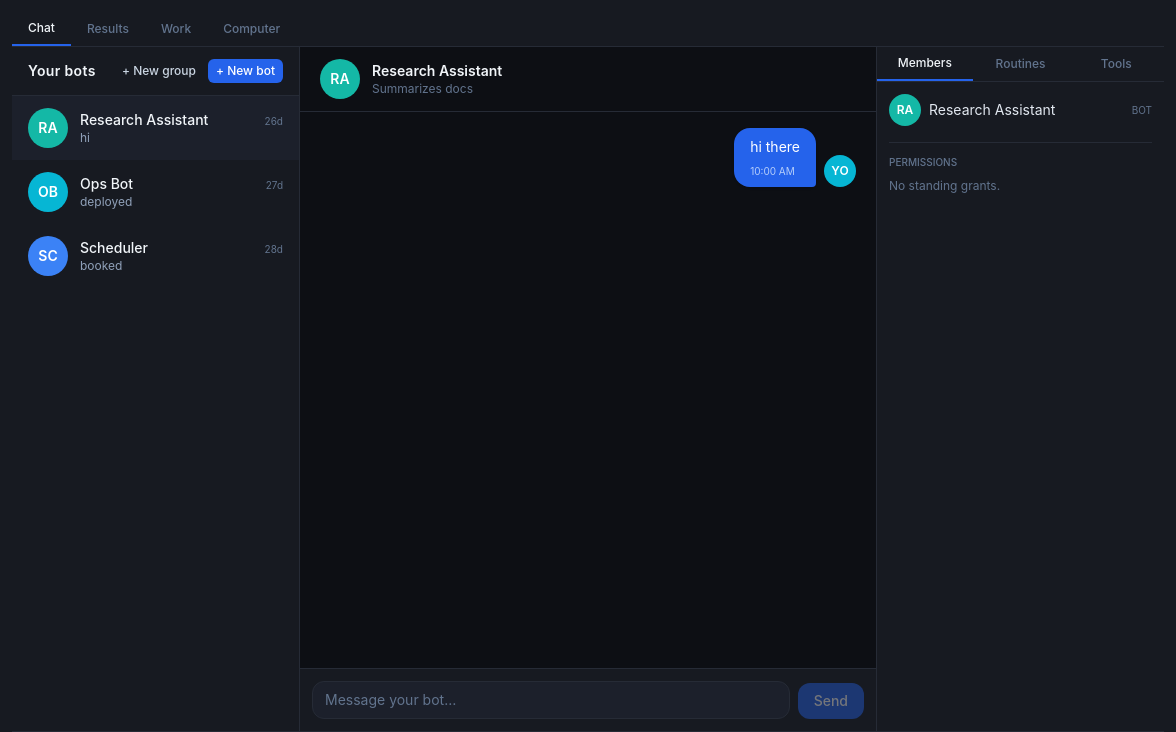
Test case: ChatPage › multi-thread fixture (spec §2.7) › switching A→B→C→A: transcript, stream, composer target and routines panel all change together
Expected: the text "hi there" is shown, [750,136,800,159]
Expected: the element named "Conversation with Research Assistant" is shown, [300,47,876,668]
Click the option "OB Ops Bot 27d deployed" at coordinates (48, 192), box [12,160,299,224]
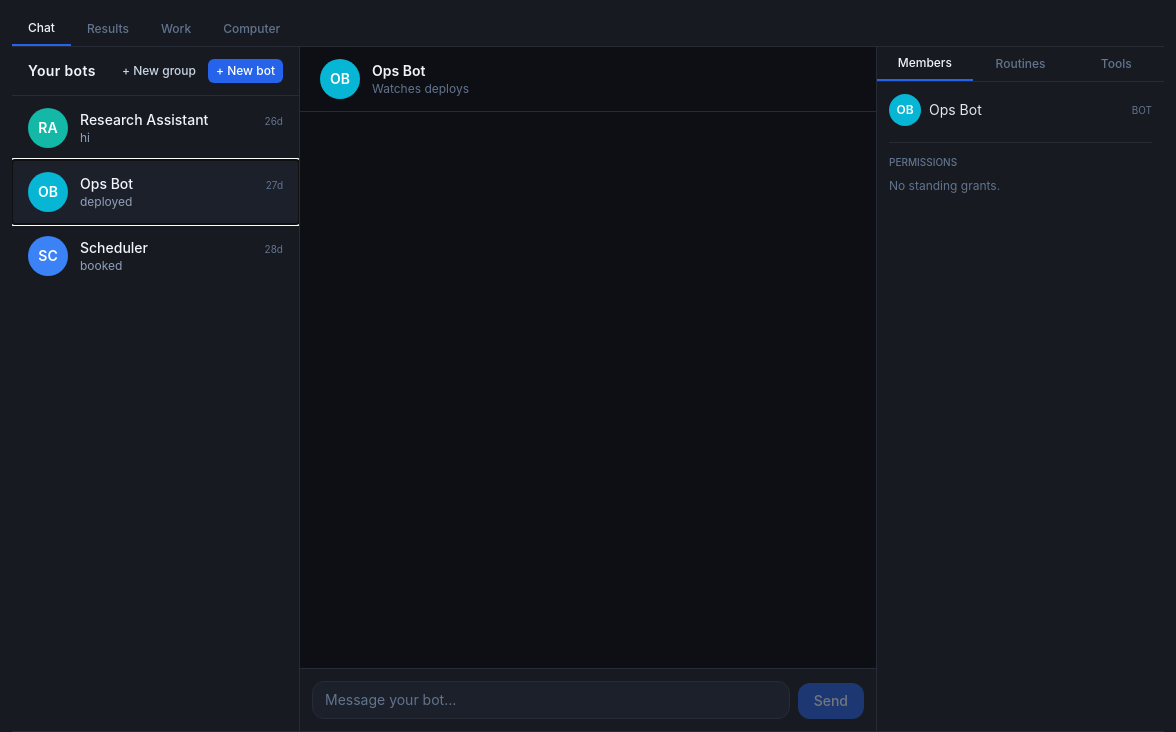
Now the element named "Conversation with Ops Bot" is shown, box [300,47,876,668]
Now the text "hi there" is gone
Click the option "SC Scheduler 28d booked" at coordinates (48, 256), box [12,224,299,288]
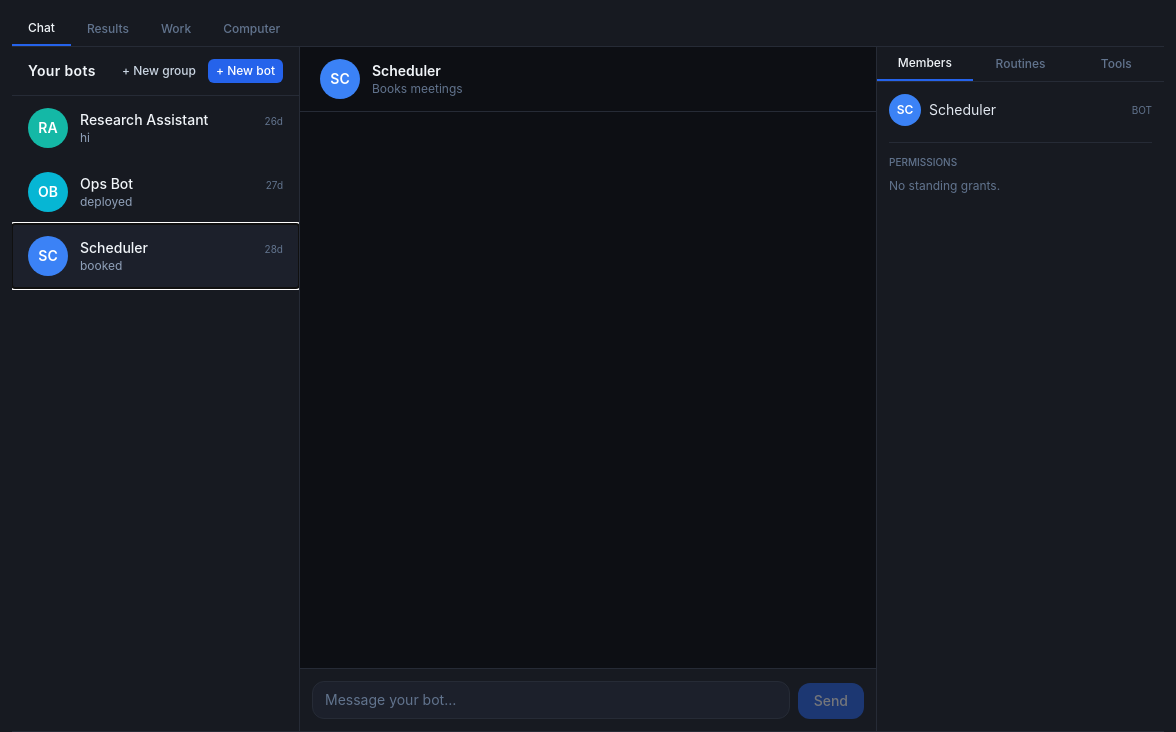
Now the element named "Conversation with Scheduler" is shown, box [300,47,876,668]
Click the option "RA Research Assistant 26d hi" at coordinates (156, 128), box [12,96,299,160]
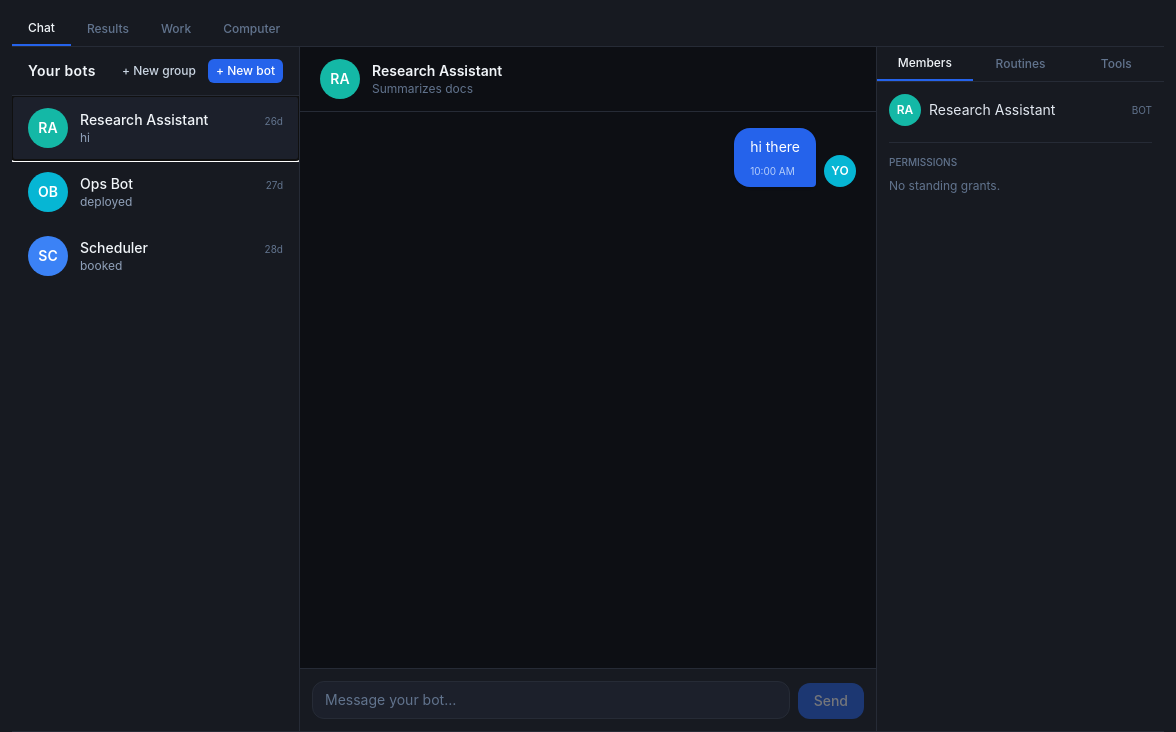
Now the element named "Conversation with Research Assistant" is shown, box [300,47,876,668]
Now the text "hi there" is shown, box [750,136,800,159]
